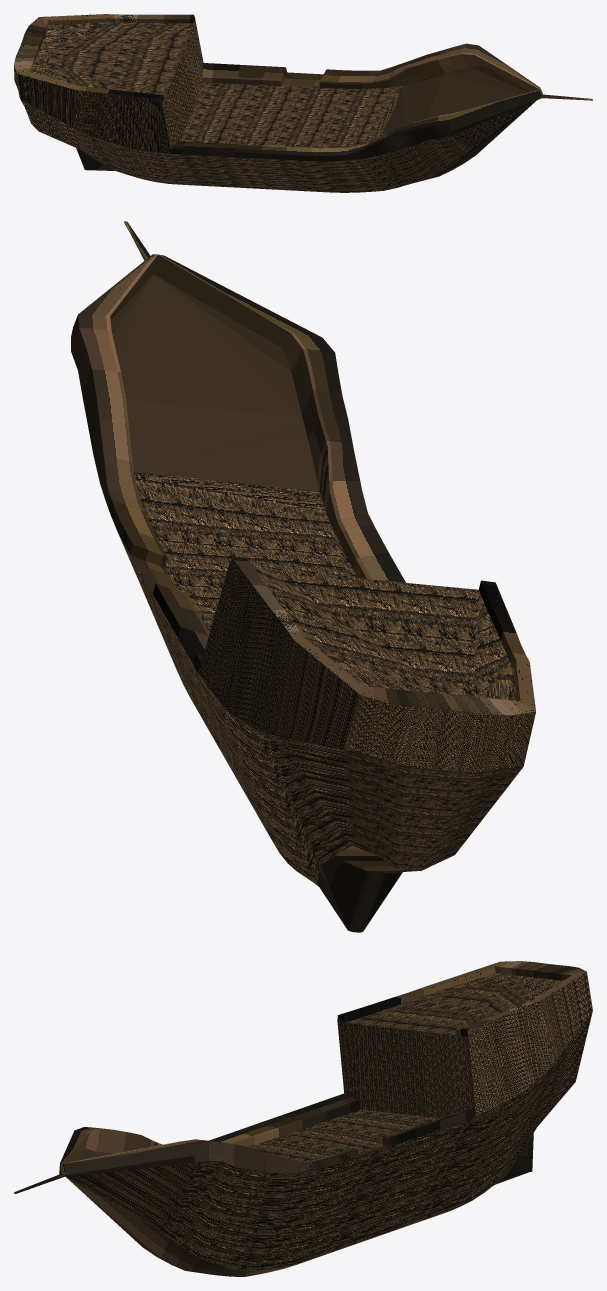
The model's file is sirenscove_ship.fbx.
The picture shows the model from 3 angles, top to bottom: view 1: azimuth 30°, elevation 25°; view 2: azimuth 150°, elevation 25°; view 3: azimuth 270°, elevation 25°; orthographic projection. The views are drawn at different scales.
Parts seen in each view (by area): view 1: ship; view 2: ship; view 3: ship.
Boxes of the visible parts, x1,y1,x2,y2 form: ship: [14, 14, 592, 192]; ship: [71, 221, 535, 932]; ship: [14, 961, 592, 1276].
Bounding box in the file's own units: 5625 × 2110 × 5502.
2 materials, 2 textured.
